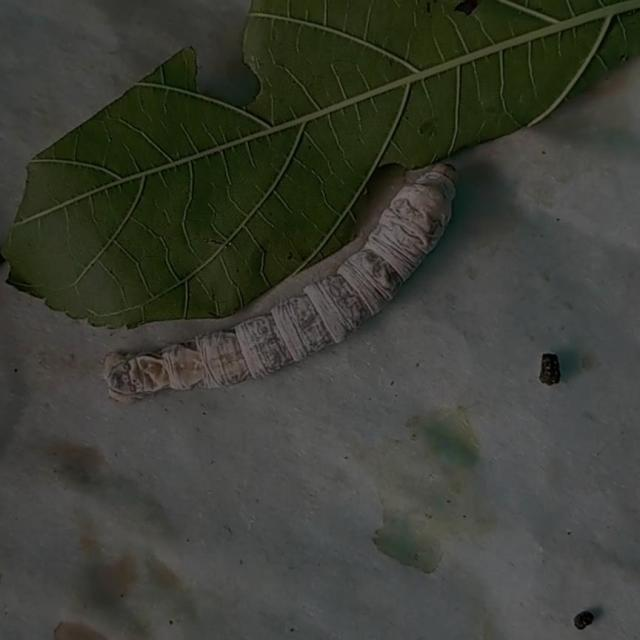Grasserie: (80, 138, 496, 424)
